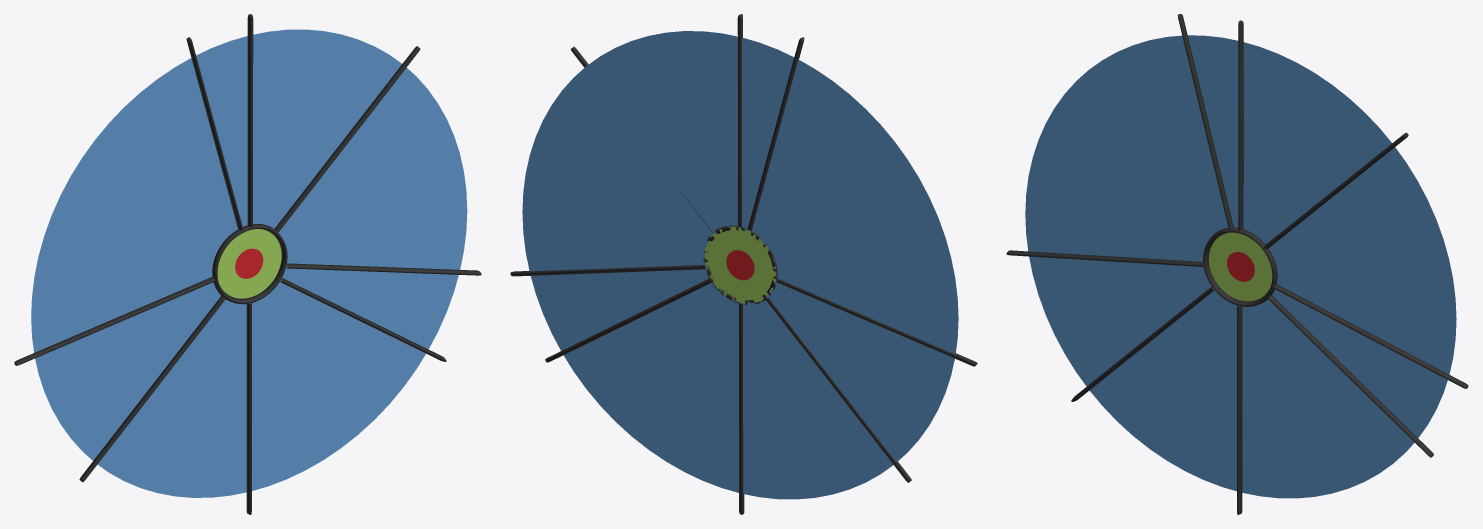
The model's file is Darchary_L3.fbx.
The picture shows the model from 3 angles, left to right: view 1: azimuth 30°, elevation 25°; view 2: azimuth 150°, elevation 25°; view 3: azimuth 330°, elevation 25°; orthographic projection.
Parts seen in each view (by area): view 1: L3_G, L3_B, L3_D, L3_A, L3_E, L3_F, L3_DarkLine.001, L3_C, L3_H, L3_BullsEye_OR, L3_BullsEye; view 2: L3_G, L3_B, L3_D, L3_A, L3_E, L3_F, L3_C, L3_DarkLine.001, L3_H, L3_BullsEye_OR, L3_BullsEye; view 3: L3_G, L3_B, L3_D, L3_A, L3_E, L3_F, L3_DarkLine.001, L3_C, L3_H, L3_BullsEye_OR, L3_BullsEye.
Boxes of the visible parts, box(x1,y1,x2,y2) form: L3_G: box(31, 58, 237, 352); L3_B: box(278, 67, 467, 269); L3_D: box(249, 279, 425, 490); L3_A: box(253, 29, 401, 228); L3_E: box(97, 299, 246, 497); L3_F: box(35, 282, 220, 460); L3_DarkLine.001: box(14, 14, 481, 514); L3_C: box(282, 265, 458, 349); L3_H: box(196, 36, 247, 226); L3_BullsEye_OR: box(217, 229, 281, 298); L3_BullsEye: box(235, 248, 263, 278); L3_G: box(750, 59, 958, 354); L3_B: box(522, 66, 715, 271); L3_D: box(563, 282, 740, 492); L3_A: box(586, 31, 737, 232); L3_E: box(740, 300, 893, 499); L3_F: box(765, 280, 954, 462); L3_C: box(531, 266, 708, 350); L3_DarkLine.001: box(510, 14, 977, 514); L3_H: box(742, 37, 794, 231); L3_BullsEye_OR: box(704, 226, 776, 303); L3_BullsEye: box(726, 250, 754, 280); L3_G: box(1025, 35, 1228, 264); L3_B: box(1268, 147, 1456, 374); L3_D: box(1242, 299, 1414, 498); L3_A: box(1243, 42, 1391, 244); L3_E: box(1089, 289, 1239, 491); L3_F: box(1029, 256, 1213, 386); L3_DarkLine.001: box(1006, 14, 1468, 514); L3_C: box(1272, 289, 1447, 437); L3_H: box(1188, 35, 1238, 227); L3_BullsEye_OR: box(1208, 232, 1272, 301); L3_BullsEye: box(1227, 252, 1254, 281).
Bounding box in the file's own units: 215 × 220 × 2.01.
